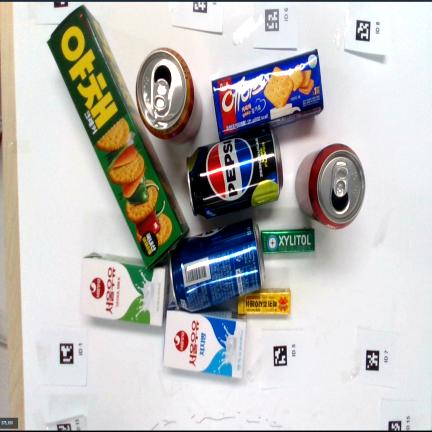can_coke_decaf: (136, 48, 201, 143)
can_coke_zero: (296, 144, 365, 228)
can_pepsi: (171, 219, 264, 311)
can_pepsi_zero: (187, 128, 282, 218)
cracker_ace: (212, 50, 323, 140)
cracker_vege: (47, 5, 188, 267)
gum_green: (261, 229, 314, 253)
gum_yellow: (237, 288, 290, 314)
milk_blue: (163, 301, 246, 378)
milk_green: (81, 254, 169, 326)
